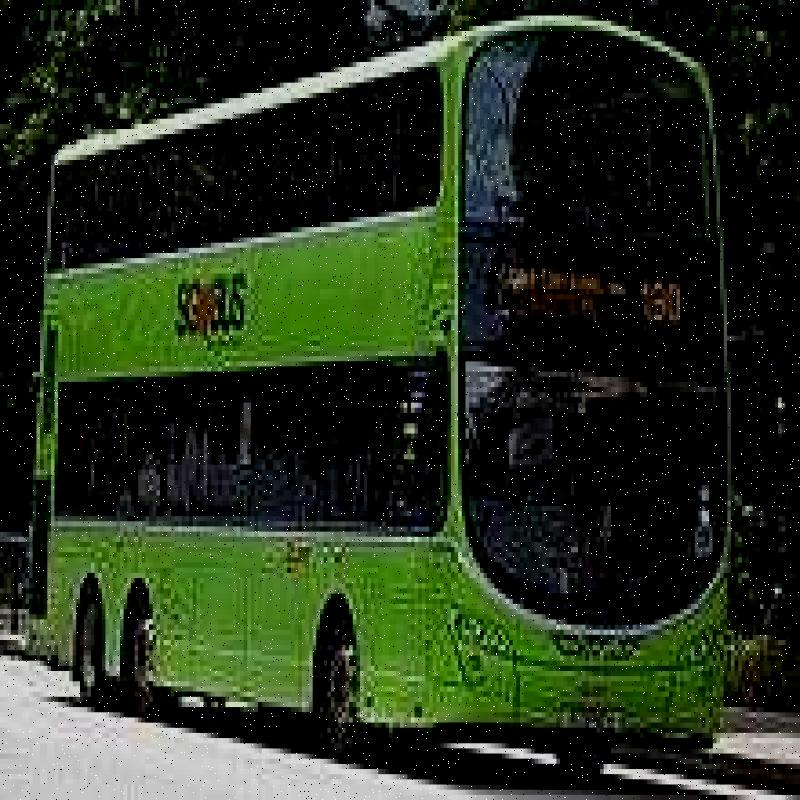bus: (44, 26, 731, 800)
